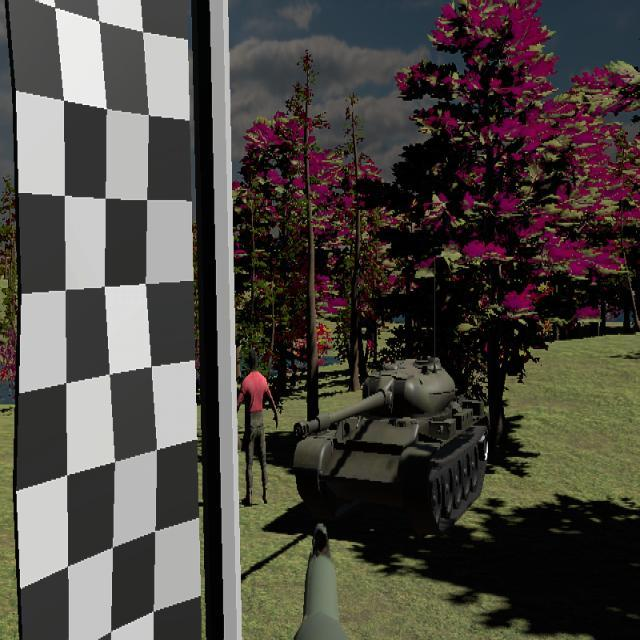Human: (230, 345, 279, 507)
Tank: (292, 352, 490, 533)
